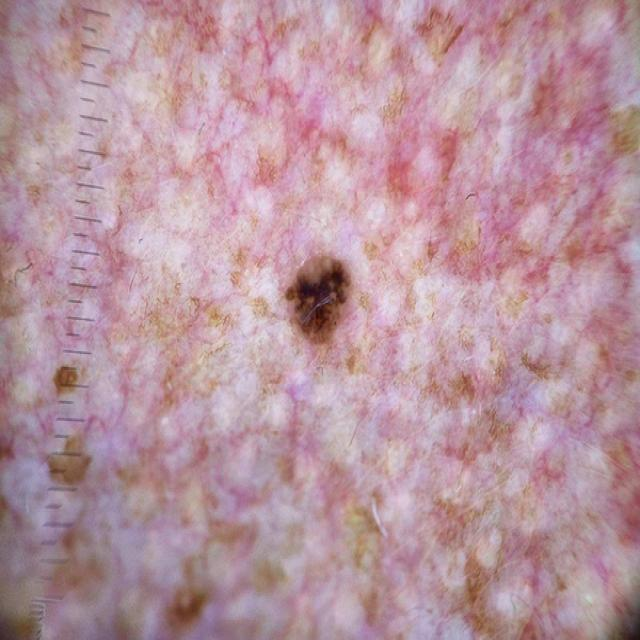Benign-Keratosis-like-Lesions-BKL-: (41, 36, 613, 592)
